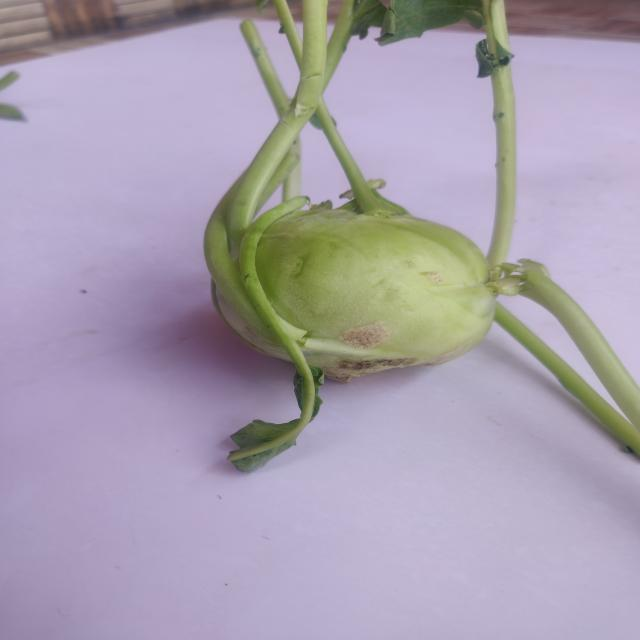Turnip: (178, 3, 640, 480)
